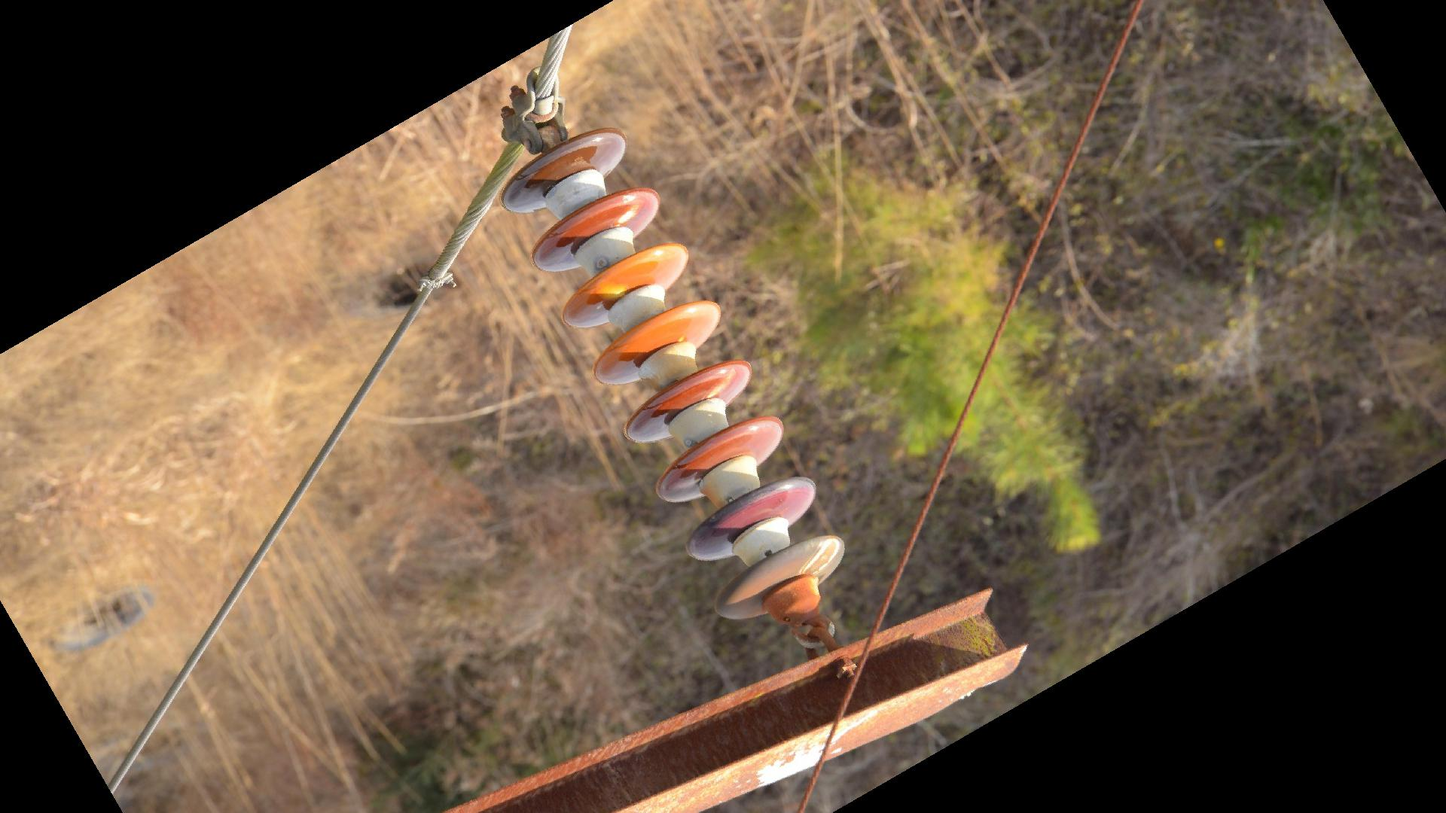insulator: (496, 125, 852, 625)
insulator_flashover: (798, 536, 842, 577), (705, 370, 737, 400), (596, 282, 629, 303), (615, 202, 642, 227)
